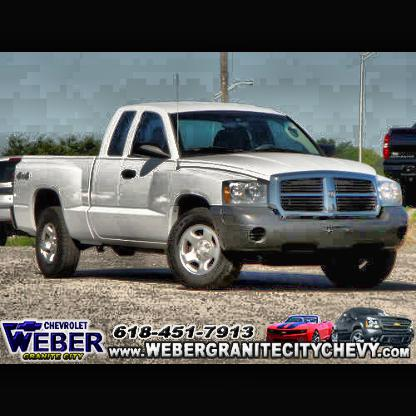Dodge Dakota Club Cab 2007: (12, 101, 406, 279)
